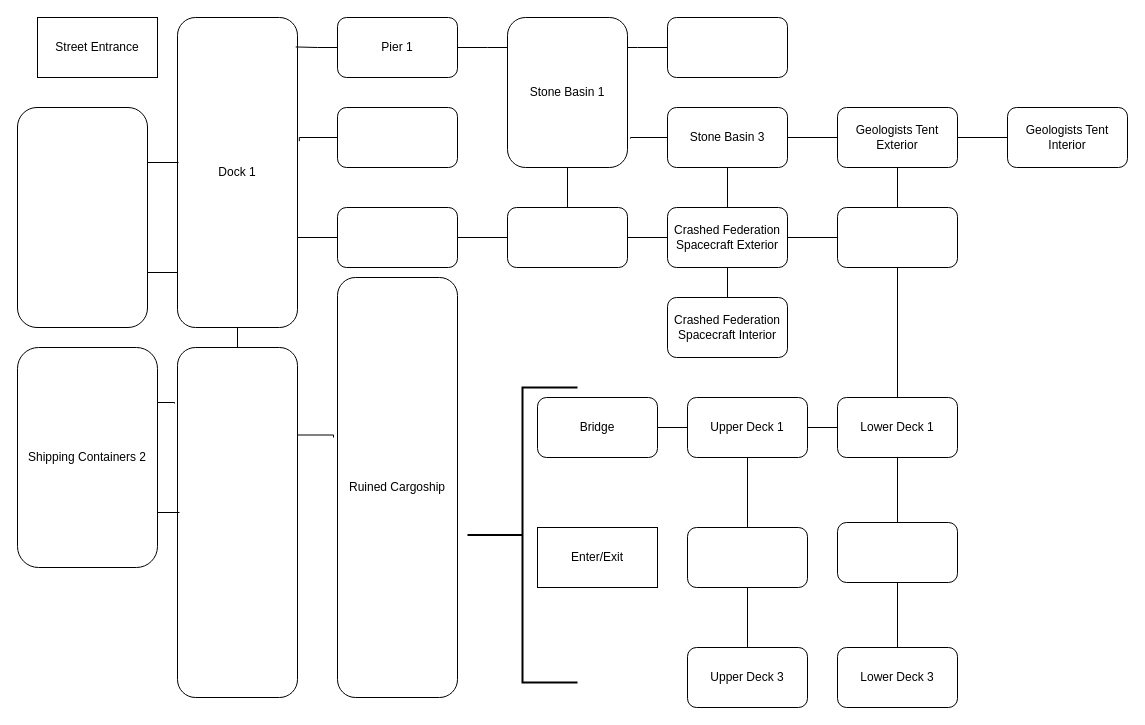
Some shapes in this 1145 by 725 pixel diagram are drawn without their labels. The centre of each missing label's shape, as x and y in pixels:
"Destroyed Pier" belongs at (397,137).
"Dock 2" belongs at (237,522).
"Lower Deck 2" belongs at (897,552).
"Pier 2" belongs at (397,237).
"Shipping Containers 1" belongs at (82,217).
"Stone Basin 2" belongs at (567,237).
"Stone Basin 4" belongs at (897,237).
"Tugboat Wreck" belongs at (727,47).
"Upper Deck 2" belongs at (747,557).
